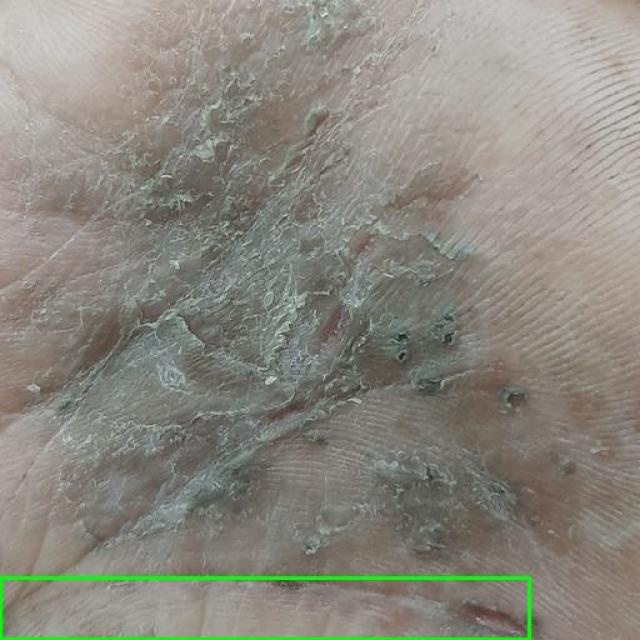Eczema: (0, 578, 529, 639)
